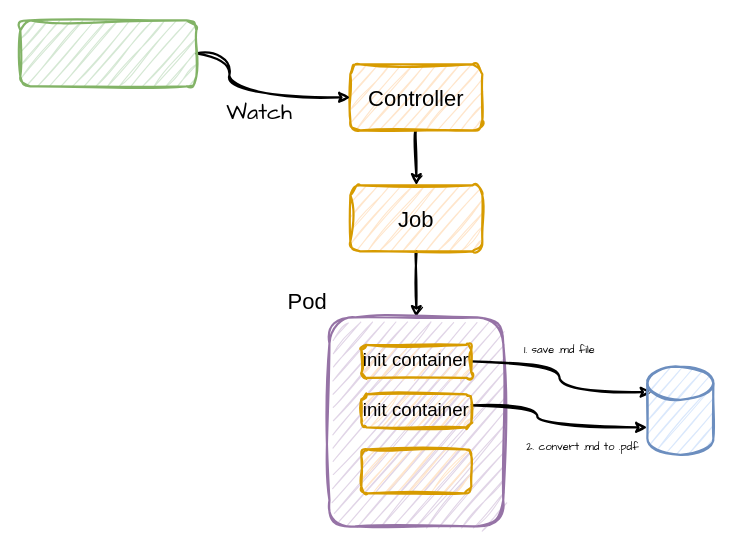
The diagram is 733 pixels wide and 546 high, and some of its shapes have lost their labels. The shapes that lost their labels are listed below. From the top down, each one's centre as x and y in pixels, then its label:
(x=108, y=53): PdfDocument
(x=680, y=410): Volume
(x=416, y=471): main container
